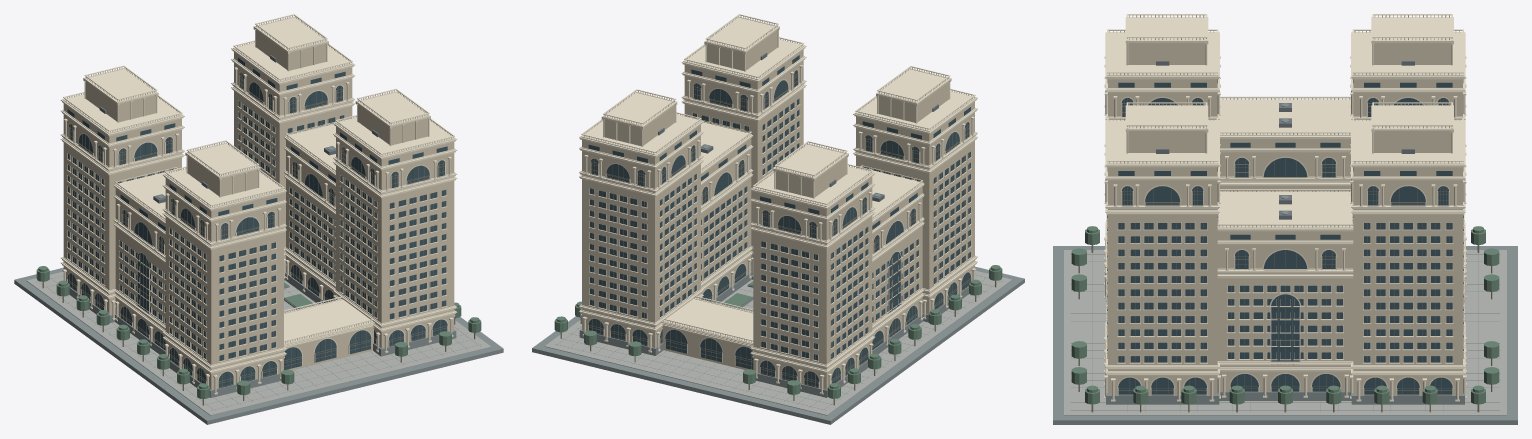
The model's file is fuhua-mansion.glb.
3 renders of one model, left to right at view 1: azimuth 30°, elevation 25°; view 2: azimuth 150°, elevation 25°; view 3: azimuth 270°, elevation 25°, orthographic. The views are drawn at different scales.
Visible parts, largest first — view 1: D_Ivory limestone, C_Ivory limestone, D_Pale carved stone, C_Pale carved stone, A_Ivory limestone, Site_Courtyard paving, A_Pale carved stone, F_Pale carved stone, F_Ivory limestone, D_Recessed bronze glass, C_Recessed bronze glass, Site_Foundation stone (+19 smaller); view 2: F_Ivory limestone, A_Ivory limestone, F_Pale carved stone, A_Pale carved stone, C_Ivory limestone, Site_Courtyard paving, C_Pale carved stone, D_Pale carved stone, D_Ivory limestone, A_Recessed bronze glass, F_Recessed bronze glass, Site_Foundation stone (+20 smaller); view 3: D_Ivory limestone, F_Ivory limestone, Site_Courtyard paving, D_Pale carved stone, F_Pale carved stone, E_Pale carved stone, E_Ivory limestone, Site_Foundation stone, B_Pale carved stone, F_Recessed bronze glass, D_Recessed bronze glass, E_Recessed bronze glass (+15 smaller).
Part boxes in pixels (<box>): D_Ivory limestone: <box>336,104,454,348</box>; C_Ivory limestone: <box>165,156,283,389</box>; D_Pale carved stone: <box>333,88,457,353</box>; C_Pale carved stone: <box>162,140,286,394</box>; A_Ivory limestone: <box>63,81,181,314</box>; Site_Courtyard paving: <box>26,271,490,415</box>; A_Pale carved stone: <box>60,65,184,319</box>; F_Pale carved stone: <box>231,14,355,278</box>; F_Ivory limestone: <box>234,30,352,272</box>; D_Recessed bronze glass: <box>340,132,447,346</box>; C_Recessed bronze glass: <box>169,184,277,388</box>; Site_Foundation stone: <box>14,267,503,424</box>; F_Ivory limestone: <box>582,105,700,347</box>; A_Ivory limestone: <box>753,157,872,389</box>; F_Pale carved stone: <box>579,89,703,352</box>; A_Pale carved stone: <box>750,141,875,394</box>; C_Ivory limestone: <box>856,82,974,314</box>; Site_Courtyard paving: <box>544,270,1011,415</box>; C_Pale carved stone: <box>853,66,977,319</box>; D_Pale carved stone: <box>681,14,806,277</box>; D_Ivory limestone: <box>684,30,803,271</box>; A_Recessed bronze glass: <box>760,182,868,387</box>; F_Recessed bronze glass: <box>588,130,696,346</box>; Site_Foundation stone: <box>532,266,1024,424</box>; D_Ivory limestone: <box>1108,131,1217,394</box>; F_Ivory limestone: <box>1353,131,1462,394</box>; Site_Courtyard paving: <box>1064,250,1506,415</box>; D_Pale carved stone: <box>1104,102,1220,401</box>; F_Pale carved stone: <box>1350,102,1466,401</box>; E_Pale carved stone: <box>1217,189,1353,397</box>; E_Ivory limestone: <box>1217,231,1353,391</box>; Site_Foundation stone: <box>1053,246,1517,424</box>; B_Pale carved stone: <box>1220,96,1350,185</box>; F_Recessed bronze glass: <box>1353,167,1463,395</box>; D_Recessed bronze glass: <box>1107,167,1217,395</box>; E_Recessed bronze glass: <box>1228,234,1342,391</box>.
Bounding box in the file's own units: 94 × 68.95 × 106.
